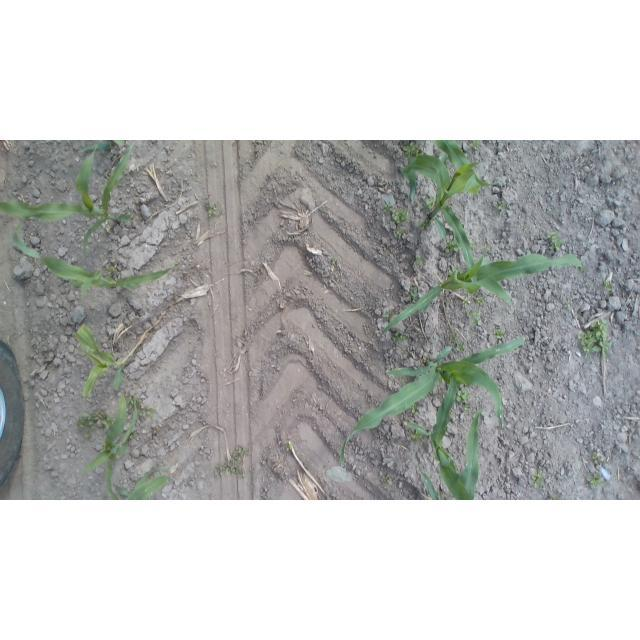Maize: (338, 334, 530, 471), (380, 253, 585, 336), (0, 143, 140, 258), (400, 141, 488, 288), (12, 221, 173, 299), (80, 391, 141, 500), (423, 408, 488, 501), (72, 322, 126, 396), (105, 465, 177, 500)
Weeds: (576, 317, 611, 359), (214, 445, 247, 479), (76, 409, 109, 438), (125, 396, 154, 418), (546, 231, 566, 252), (104, 261, 120, 284), (531, 467, 548, 488), (204, 199, 222, 218), (402, 143, 422, 159), (587, 471, 605, 488), (455, 387, 472, 404), (392, 208, 409, 223), (468, 309, 482, 327), (392, 333, 409, 347), (396, 228, 411, 243), (444, 239, 460, 253), (410, 430, 426, 443), (468, 140, 485, 152), (424, 194, 437, 209), (603, 279, 616, 293), (383, 199, 396, 213), (591, 451, 603, 466), (494, 328, 507, 341), (382, 309, 395, 322), (451, 339, 465, 351), (284, 441, 296, 455), (379, 475, 391, 487), (410, 403, 421, 416), (449, 330, 460, 343), (497, 200, 508, 213), (437, 375, 448, 387), (477, 296, 487, 309), (410, 285, 419, 299), (414, 254, 424, 266), (548, 493, 565, 500), (419, 220, 432, 229), (563, 298, 573, 309), (329, 257, 340, 267), (463, 296, 472, 308), (471, 242, 478, 253), (482, 244, 490, 253), (421, 354, 428, 363)
